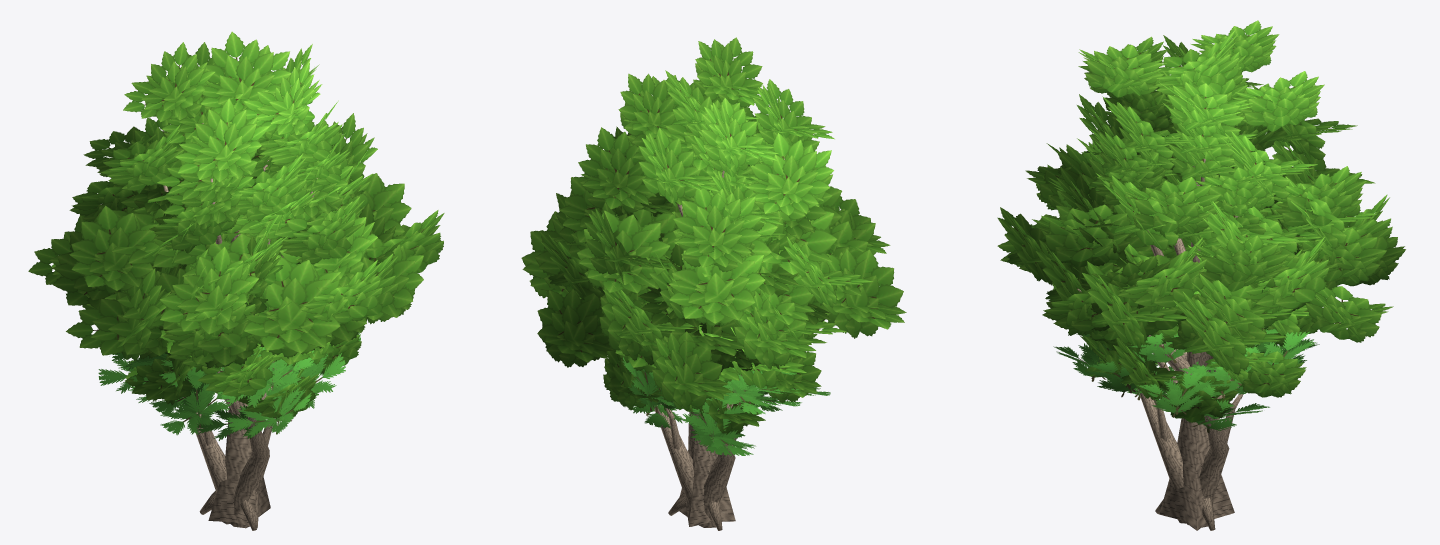
File: trees_library.glb
The picture shows the model from 3 angles, left to right: view 1: azimuth 30°, elevation 25°; view 2: azimuth 150°, elevation 25°; view 3: azimuth 270°, elevation 25°; orthographic projection. The views are drawn at different scales.
Visible parts, largest first — view 1: Tree_Broadleaf_Foliage, Tree_Poplar_Foliage, Tree_Saxaul_Foliage, Tree_Shelter_Foliage, Tree_Saxaul_Wood, Tree_Broadleaf_Wood; view 2: Tree_Broadleaf_Foliage, Tree_Poplar_Foliage, Tree_Shelter_Foliage, Tree_Saxaul_Foliage, Tree_Saxaul_Wood, Tree_Broadleaf_Wood, Tree_Poplar_Wood; view 3: Tree_Poplar_Foliage, Tree_Broadleaf_Foliage, Tree_Shelter_Foliage, Tree_Saxaul_Foliage, Tree_Broadleaf_Wood, Tree_Saxaul_Wood.
Part boxes in pixels (left/top/right/bottom): Tree_Broadleaf_Foliage: left=28, top=135, right=444, bottom=368; Tree_Poplar_Foliage: left=83, top=31, right=406, bottom=355; Tree_Saxaul_Foliage: left=98, top=332, right=360, bottom=440; Tree_Shelter_Foliage: left=125, top=237, right=361, bottom=421; Tree_Saxaul_Wood: left=183, top=387, right=272, bottom=530; Tree_Broadleaf_Wood: left=208, top=367, right=270, bottom=528; Tree_Broadleaf_Foliage: left=521, top=166, right=906, bottom=411; Tree_Poplar_Foliage: left=552, top=37, right=834, bottom=372; Tree_Shelter_Foliage: left=603, top=321, right=825, bottom=434; Tree_Saxaul_Foliage: left=622, top=357, right=830, bottom=455; Tree_Saxaul_Wood: left=654, top=403, right=737, bottom=530; Tree_Broadleaf_Wood: left=679, top=331, right=735, bottom=526; Tree_Poplar_Wood: left=677, top=158, right=784, bottom=526; Tree_Poplar_Foliage: left=1048, top=20, right=1367, bottom=352; Tree_Broadleaf_Foliage: left=997, top=131, right=1405, bottom=375; Tree_Shelter_Foliage: left=1080, top=238, right=1318, bottom=422; Tree_Saxaul_Foliage: left=1053, top=327, right=1319, bottom=432; Tree_Broadleaf_Wood: left=1077, top=289, right=1234, bottom=530; Tree_Saxaul_Wood: left=1137, top=380, right=1242, bottom=530.
Size of the model in its own units: 7.05 by 8.11 by 6.68.
Materials: 4 (4 with a texture image).
